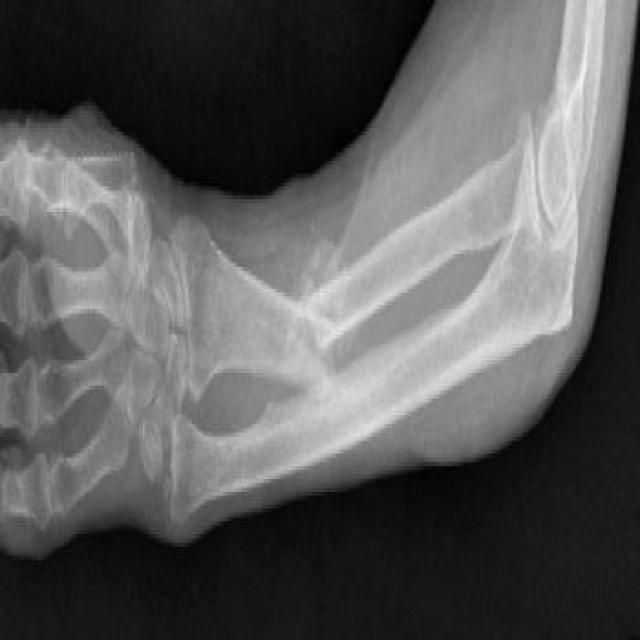Fracture: (287, 284, 338, 389)
